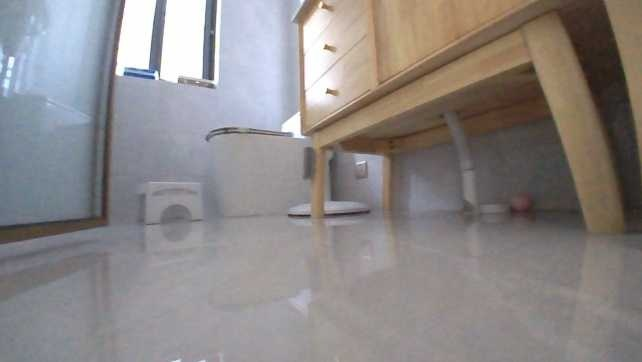chair_base: (287, 175, 370, 218)
plastic_stool: (137, 178, 204, 222)
toilet: (205, 111, 337, 219)
